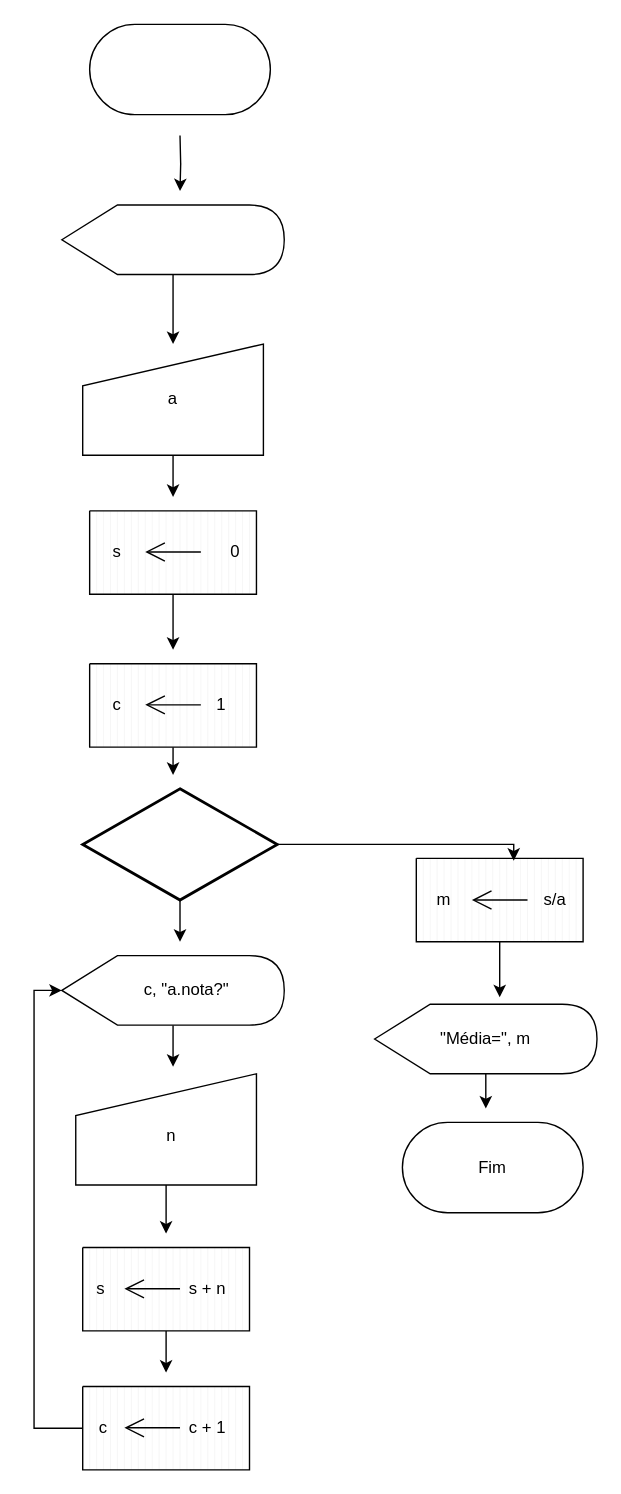
This 621x1494 diagram has some shape labels left out. The centre of each missing label's shape, as x and y in pixels:
"Total de alunos?": point 172,239
c ≤ a: point 179,844
Inicío: point 179,69
